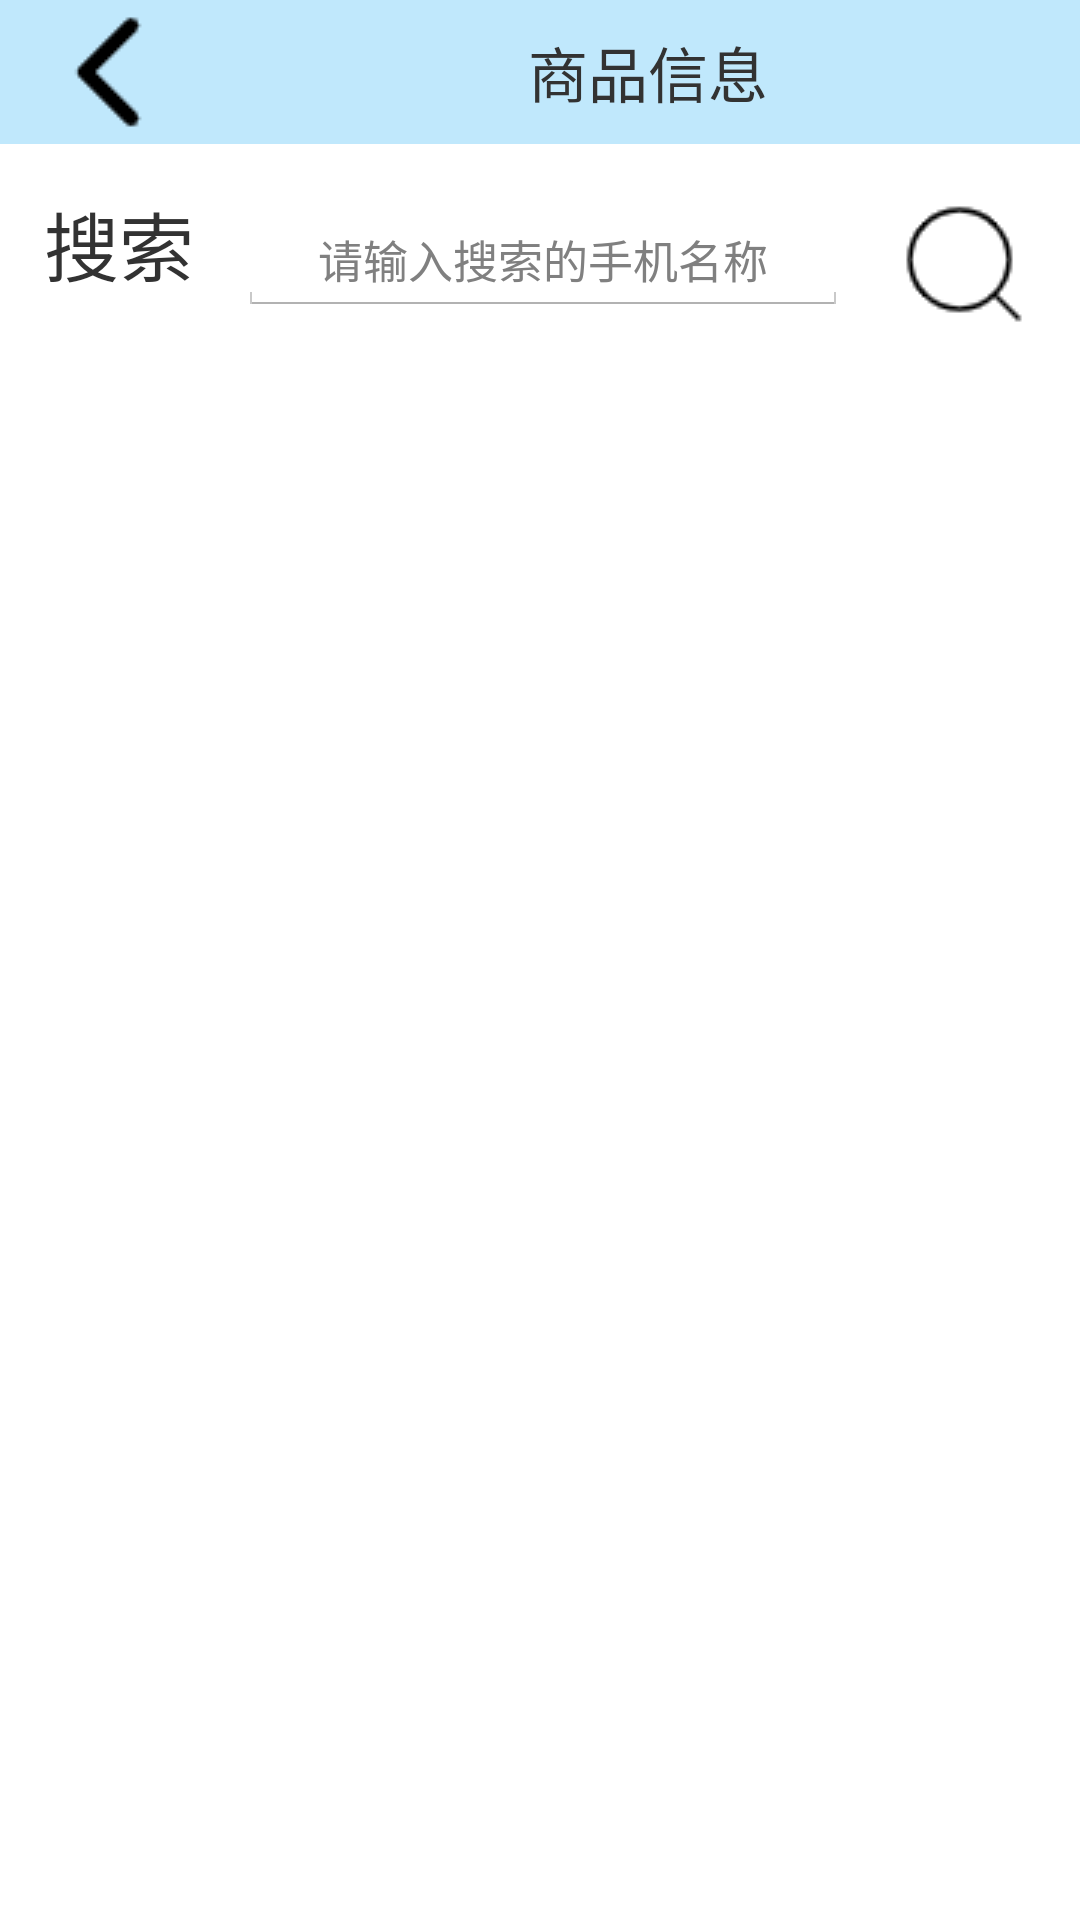

Icon click points for this 1080x1920 phone screenshot, format point (x, y):
fangdajing: point (964, 264)
jiantou: point (108, 72)
